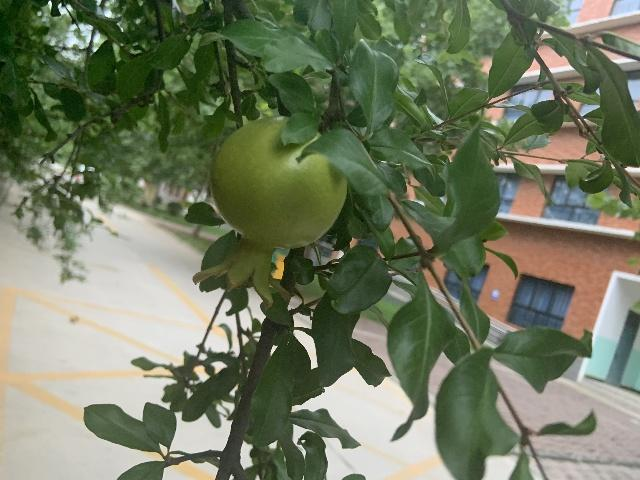mid-growth: (192, 116, 347, 310)
